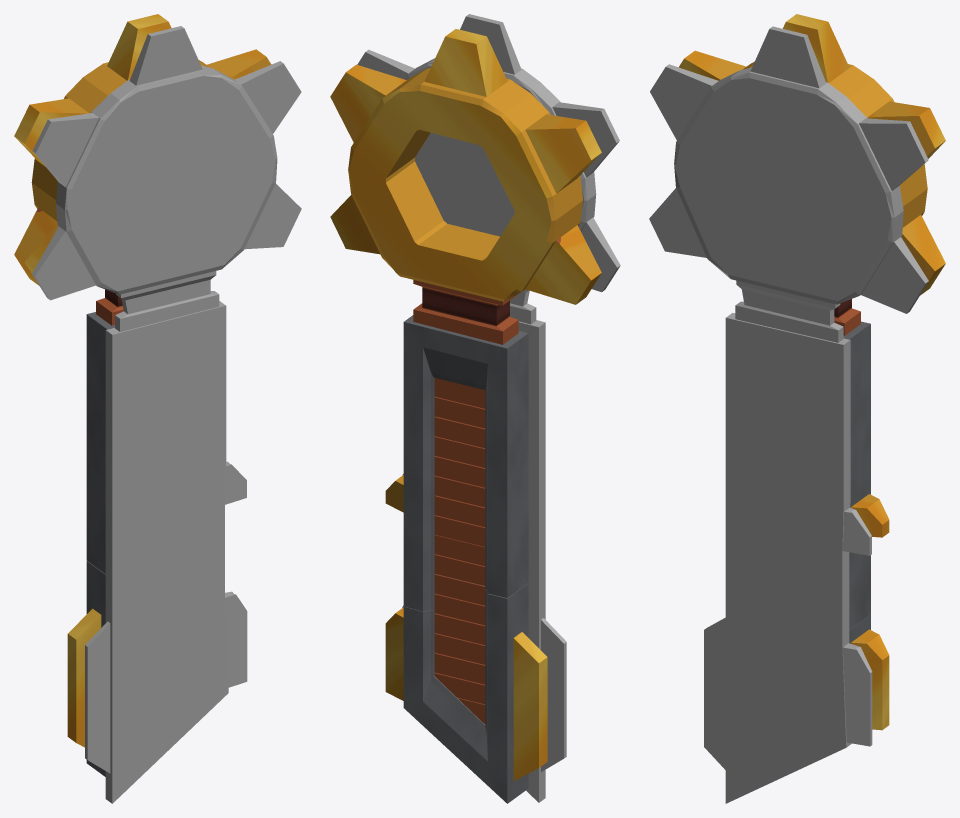
The model's file is KeyGear_Set.fbx.
3 renders of one model, left to right at view 1: azimuth 30°, elevation 25°; view 2: azimuth 150°, elevation 25°; view 3: azimuth 330°, elevation 25°, orthographic. The views are drawn at different scales.
Visible parts, largest first — view 1: GearKeySilhouette, GearKey_Top, GearKey_Mid, GearKey_End; view 2: GearKey_Top, GearKey_Mid, GearKey_End, GearKeySilhouette; view 3: GearKeySilhouette, GearKey_Top, GearKey_Mid, GearKey_End.
Part boxes in pixels (x1,y1,x2,y2): GearKeySilhouette: (32,26,301,803); GearKey_Top: (14,14,271,325); GearKey_Mid: (86,312,114,573); GearKey_End: (67,561,105,776); GearKey_Top: (330,29,601,344); GearKey_Mid: (385,315,528,611); GearKey_End: (385,574,547,803); GearKeySilhouette: (357,14,620,802); GearKeySilhouette: (649,26,928,803); GearKey_Top: (679,14,945,335); GearKey_Mid: (843,321,889,629); GearKey_End: (849,614,889,730).
Size of the model in its own units: 63.62 by 172 by 16.02.
